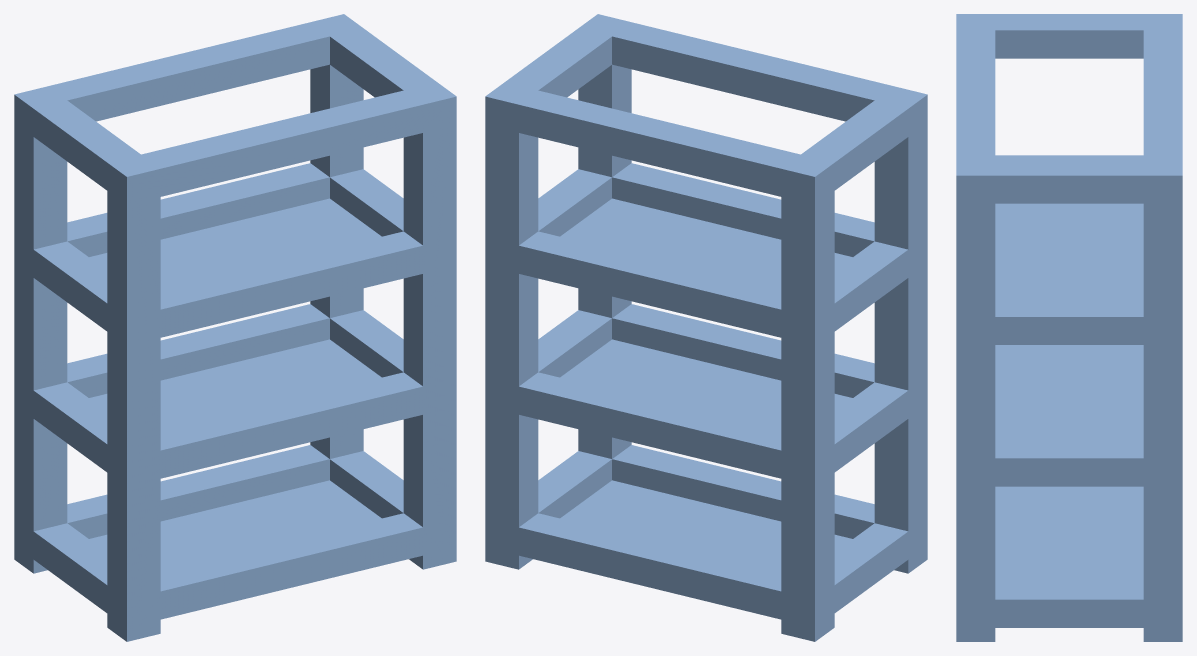
Rendered from frame.glb.
3 renders of one model, left to right at view 1: azimuth 30°, elevation 25°; view 2: azimuth 150°, elevation 25°; view 3: azimuth 270°, elevation 25°, orthographic.
Parts seen in each view (by area): view 1: frame; view 2: frame; view 3: frame.
Part boxes in pixels (<box>): frame: <box>14,14,456,641</box>; frame: <box>485,14,927,641</box>; frame: <box>956,14,1182,641</box>.
Size of the model in its own units: 49 by 66 by 29.
